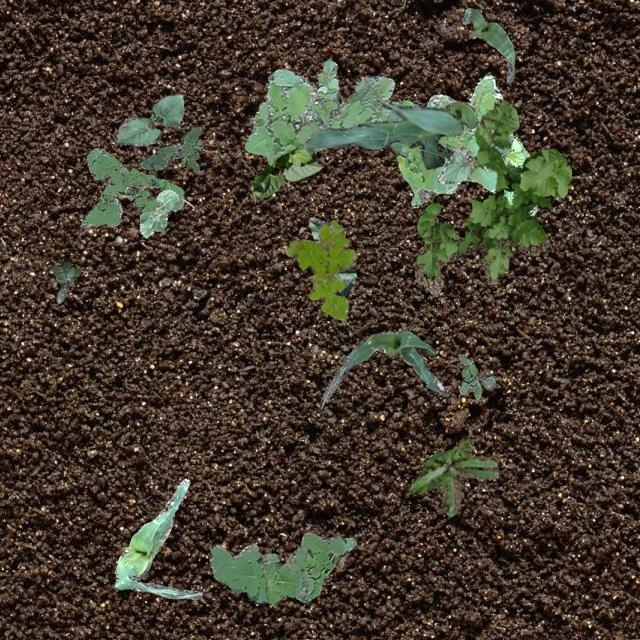crop: (304, 100, 478, 168), (114, 478, 202, 598), (320, 328, 448, 404), (461, 6, 514, 80), (308, 216, 356, 296), (248, 148, 320, 200), (112, 92, 182, 144), (437, 134, 512, 182), (138, 188, 178, 236)
weed: (244, 58, 536, 216), (414, 99, 570, 294), (210, 532, 356, 602), (80, 148, 182, 228), (284, 218, 356, 320), (410, 438, 498, 516), (138, 126, 202, 172), (458, 352, 494, 398), (50, 260, 80, 302)
